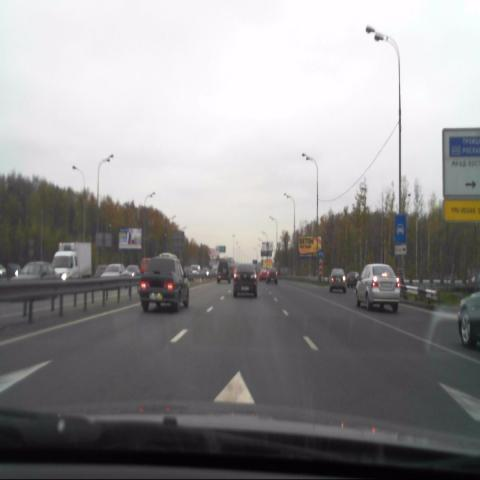5_3: (394, 215, 406, 243)
